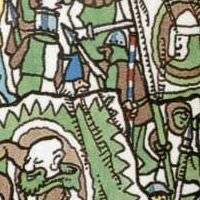wb: (58, 48, 88, 95)
